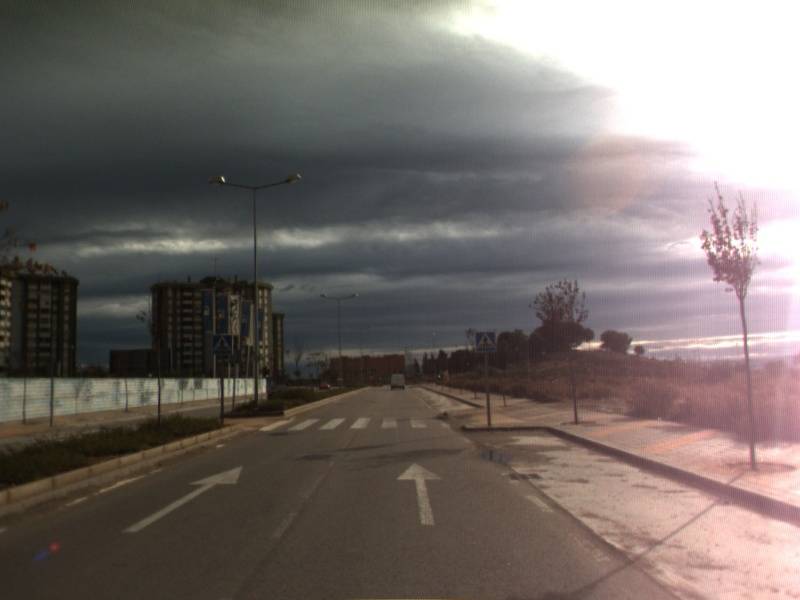STRAIGHT: (119, 464, 245, 534), (394, 460, 445, 527)
